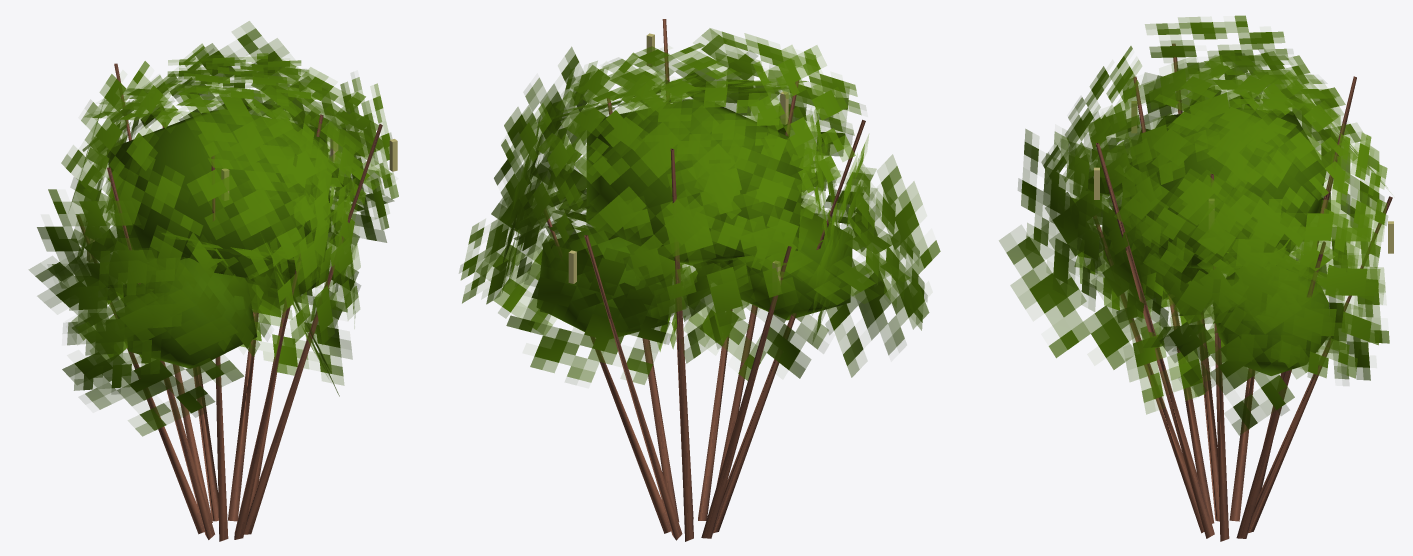
Rendered from shrub_hazel.glb.
3 views of the same model, side by side, from view 1: azimuth 30°, elevation 25°; view 2: azimuth 150°, elevation 25°; view 3: azimuth 270°, elevation 25° (orthographic). The views are drawn at different scales.
Visible parts, largest first — view 1: shrub_hazel_Leaf_Mid, shrub_hazel_Core_Mid, shrub_hazel_Bark_Brown, shrub_hazel_Catkin; view 2: shrub_hazel_Leaf_Mid, shrub_hazel_Core_Mid, shrub_hazel_Bark_Brown, shrub_hazel_Catkin; view 3: shrub_hazel_Leaf_Mid, shrub_hazel_Core_Mid, shrub_hazel_Bark_Brown, shrub_hazel_Catkin.
Part boxes in pixels (x1,y1,x2,y2): shrub_hazel_Leaf_Mid: (29, 21, 398, 436); shrub_hazel_Core_Mid: (107, 109, 331, 368); shrub_hazel_Bark_Brown: (77, 63, 382, 541); shrub_hazel_Catkin: (87, 138, 397, 261); shrub_hazel_Leaf_Mid: (459, 28, 940, 384); shrub_hazel_Core_Mid: (536, 99, 852, 338); shrub_hazel_Bark_Brown: (544, 19, 865, 541); shrub_hazel_Catkin: (568, 33, 788, 283); shrub_hazel_Leaf_Mid: (999, 15, 1389, 435); shrub_hazel_Core_Mid: (1102, 109, 1329, 375); shrub_hazel_Bark_Brown: (1093, 43, 1392, 541); shrub_hazel_Catkin: (1094, 101, 1393, 253).
Size of the model in its own units: 3.32 by 3.59 by 2.77.
Materials: 4 (2 with a texture image).
